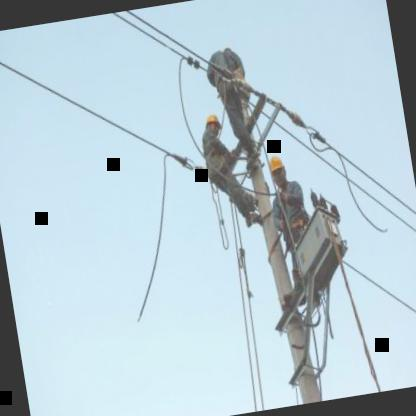helmet: (266, 148, 289, 190), (202, 108, 225, 141)
